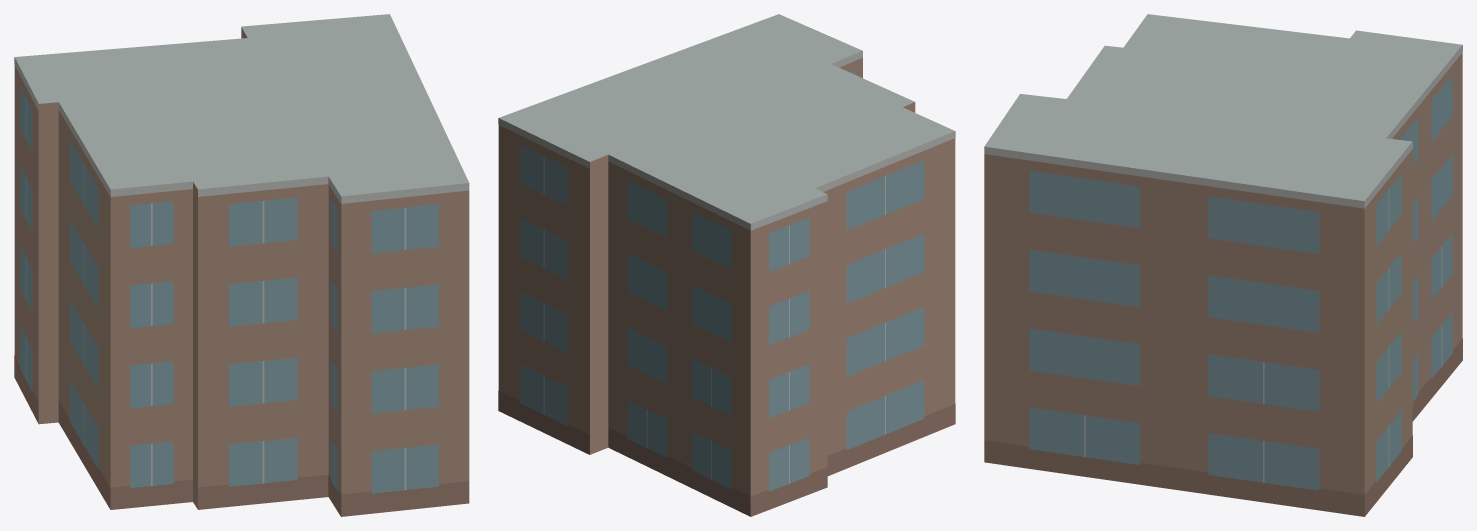
File: survey-upis-32733217.glb
The picture shows the model from 3 angles, left to right: view 1: azimuth 30°, elevation 25°; view 2: azimuth 150°, elevation 25°; view 3: azimuth 270°, elevation 25°; orthographic projection. The views are drawn at different scales.
Parts seen in each view (by area): view 1: survey-upis-32733217.tmp; view 2: survey-upis-32733217.tmp; view 3: survey-upis-32733217.tmp.
Boxes of the visible parts, box(x1,y1,x2,y2) form: survey-upis-32733217.tmp: box(14, 14, 469, 516); survey-upis-32733217.tmp: box(498, 14, 955, 516); survey-upis-32733217.tmp: box(984, 14, 1462, 516).
Size of the model in its own units: 13.37 by 10.5 by 14.44.
